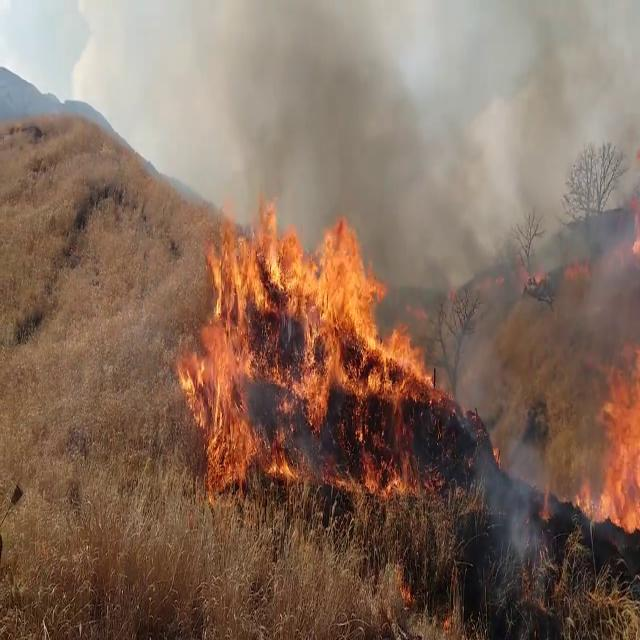Fire: (178, 188, 438, 478), (592, 210, 640, 536), (590, 317, 640, 535)
Smoke: (138, 1, 640, 300)
